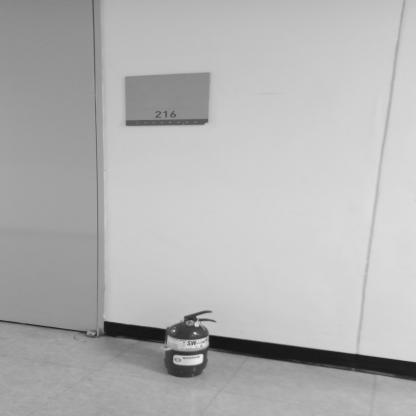FE: (164, 309, 215, 378)
